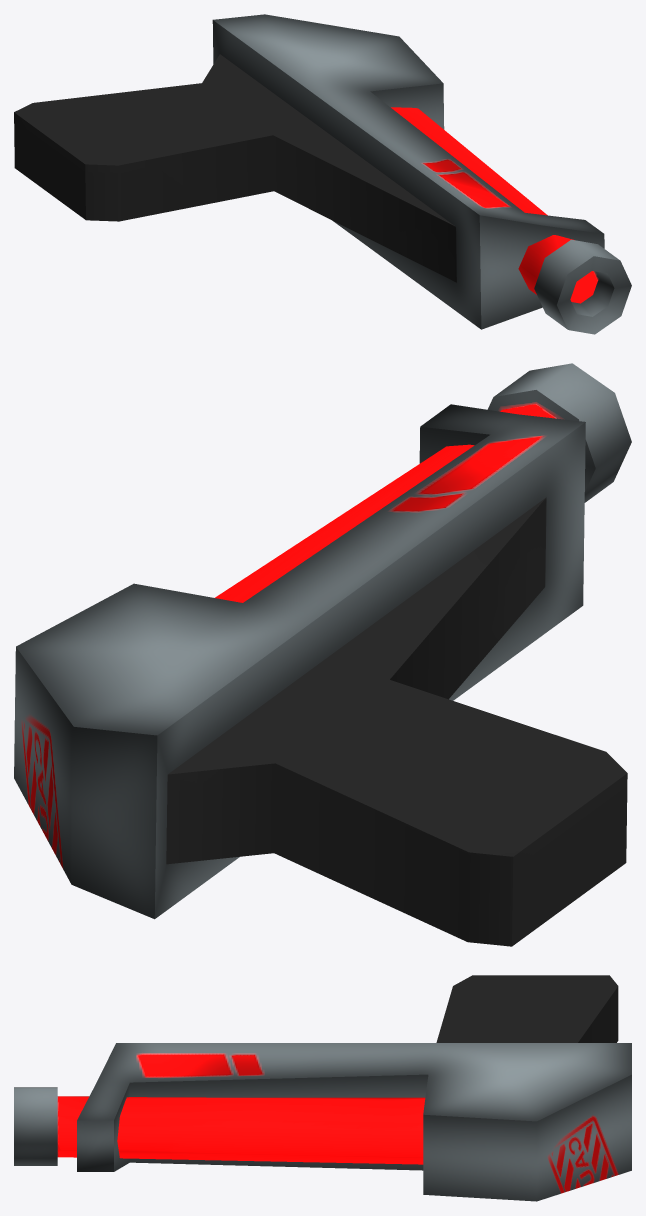
File: GunExport.fbx
3 views of the same model, one above another, from view 1: azimuth 30°, elevation 25°; view 2: azimuth 150°, elevation 25°; view 3: azimuth 270°, elevation 25° (orthographic). The views are drawn at different scales.
Visible parts, largest first — view 1: Gun; view 2: Gun; view 3: Gun.
Part boxes in pixels (x1,y1,x2,y2): Gun: (14, 14, 631, 334); Gun: (14, 363, 631, 946); Gun: (14, 975, 631, 1201).
Size of the model in its own units: 28.52 by 8.98 by 45.29.
1 material, 1 textured.
